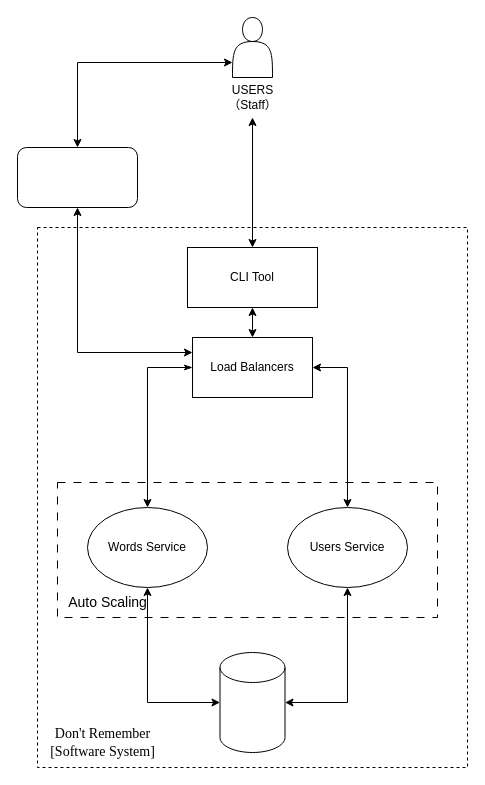
This 485x785 diagram has some shape labels left out. The shapes that lost their labels are listed below. From the top down, each one's centre as x and y in pixels, then its label:
point (77, 177): Other Tools
point (252, 702): Database
